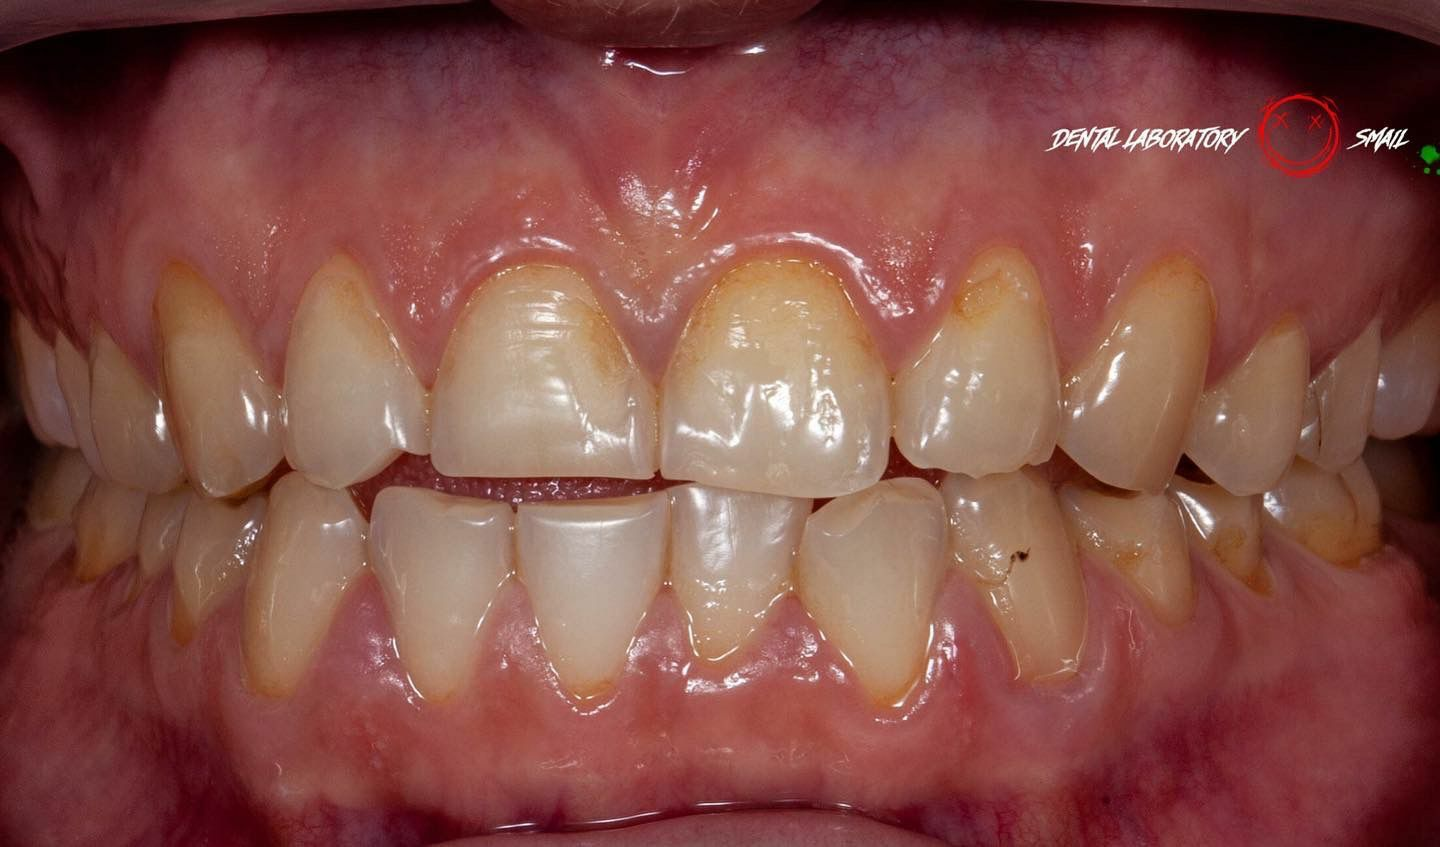LL1BC_healthy: (1077, 495, 1195, 620)
LL1M_decay: (1269, 458, 1388, 578)
LL2BC_healthy: (1192, 495, 1266, 575)
LLCI_healthy: (668, 493, 805, 702)
LLC_decay: (952, 483, 1073, 690)
LLLI_healthy: (800, 481, 947, 717)
LR1BC_healthy: (170, 492, 258, 643)
LR2BC_healthy: (133, 492, 181, 583)
LRCI_healthy: (517, 493, 672, 717)
LRC_healthy: (251, 479, 370, 690)
LRLI_healthy: (372, 485, 518, 702)
UL1BC_healthy: (1188, 310, 1300, 505)
UL2BC_healthy: (1288, 308, 1383, 477)
ULCI_healthy: (663, 225, 893, 498)
ULC_healthy: (1072, 249, 1198, 498)
ULLI_healthy: (907, 222, 1066, 475)
UR1BC_healthy: (85, 328, 182, 505)
URCI_healthy: (437, 247, 668, 487)
URC_healthy: (158, 264, 281, 503)
URLI_healthy: (266, 255, 433, 486)
